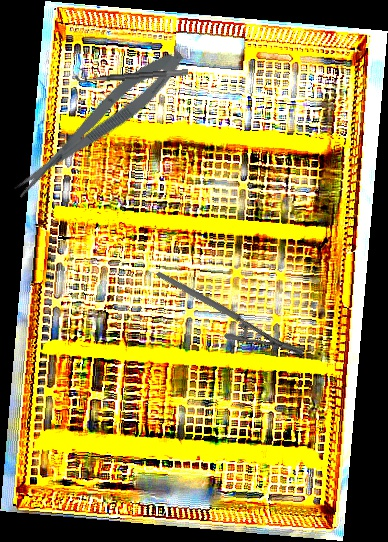Fixation Ring: (74, 59, 189, 84)
Micro Scissor: (3, 41, 193, 204)
Needle Holder: (155, 234, 307, 392)
